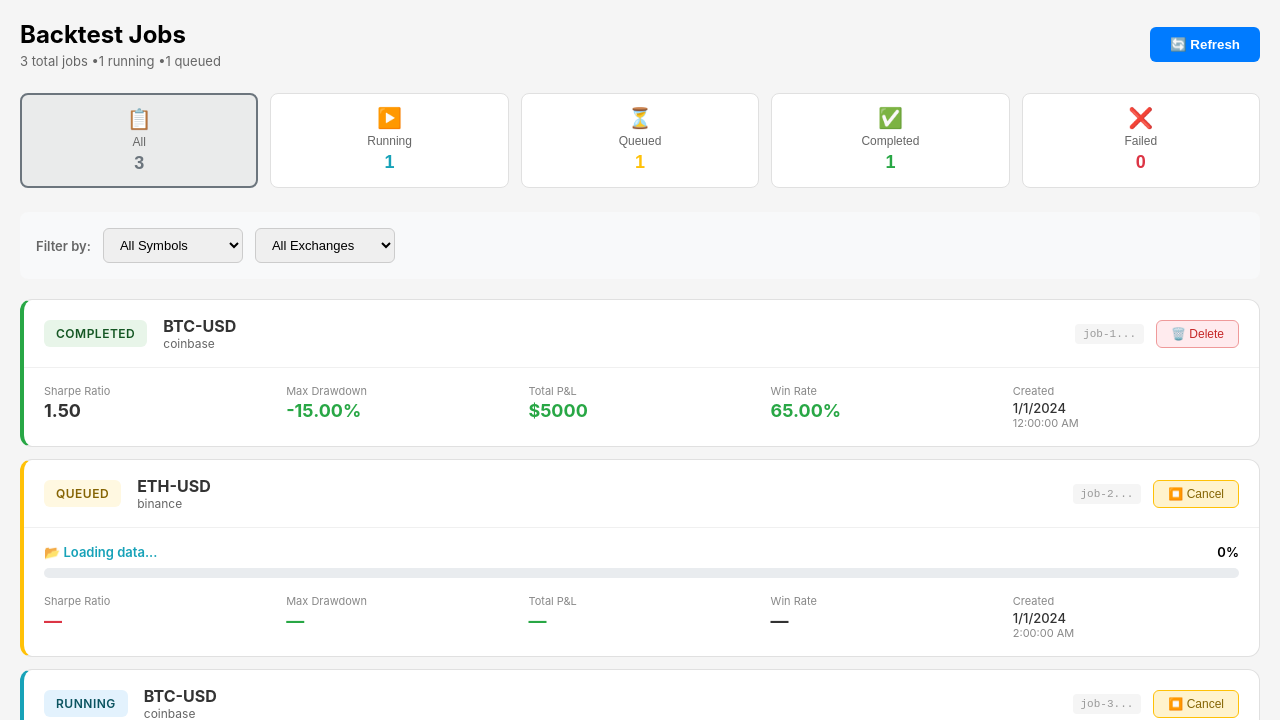
JobList › shows delete confirmation dialog
The width and height of the screenshot is (1280, 720).
Expected: the text "job-1..." is shown, [1075,324,1144,344]
Click the button "🗑️ Delete": click(1198, 334) [1156,320,1239,348]
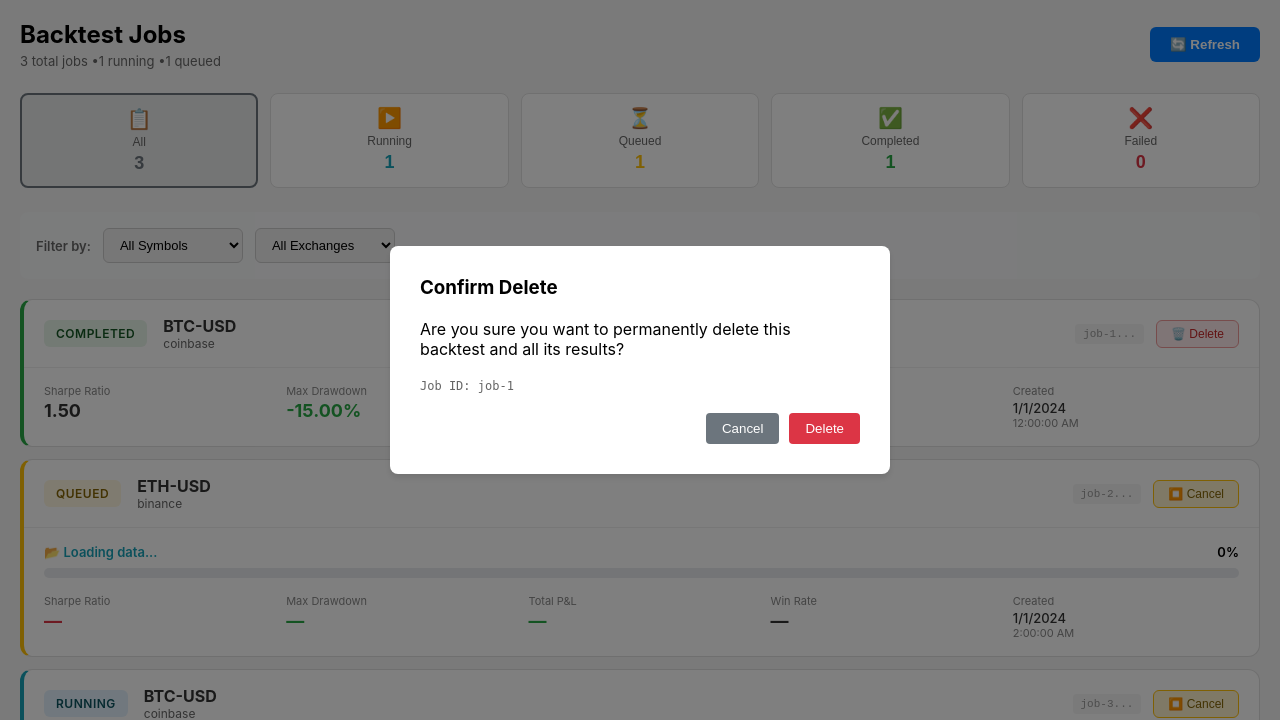
Now the text "Are you sure" is shown, box [420,319,791,359]
